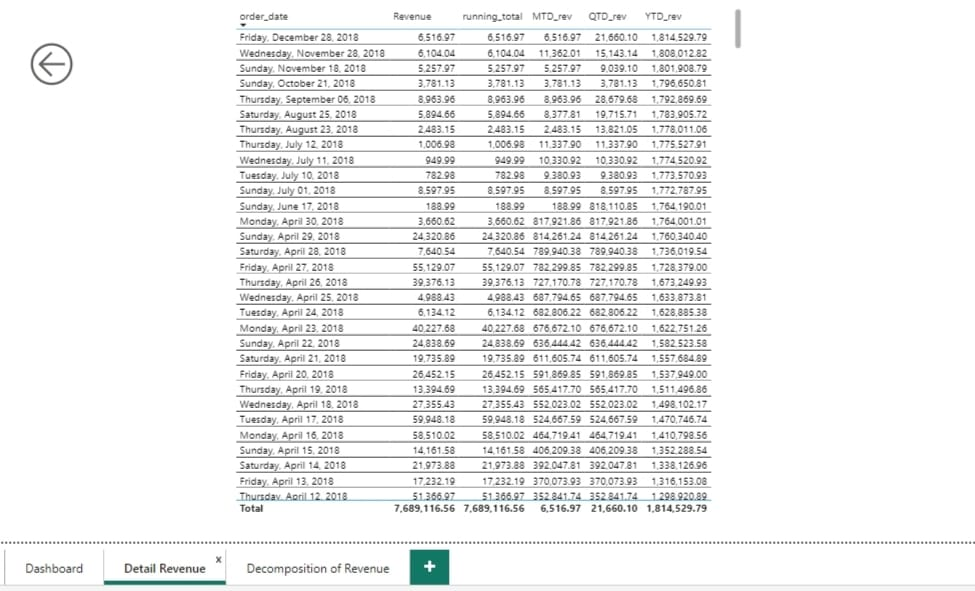

The dashboard page shown, as its layout file describes it:
{"tool":"powerbi","page":{"name":"Detail Revenue","canvas":[1280,720],"ordinal":1},"visuals":[{"type":"tableEx","fields":{"Values":["orders.order_date","measures_table.Revenue","measures_table.running_total","measures_table.MTD_rev","measures_table.QTD_rev","measures_table.YTD_rev"]},"box":[304.2,17.6,673,673],"z":0},{"type":"actionButton","box":[33.8,60,70.8,69.2],"z":1000}]}

Visuals, with their boxes on the page's 1280x720 design canvas (x1, y1, x2, y2). These are canvas units, not pixel positions in the 975x591 screenshot, which may show the page scaled, cropped or inside an application window:
tableEx - orders.order_date x measures_table.Revenue: region(304, 18, 977, 691)
actionButton: region(34, 60, 105, 129)
